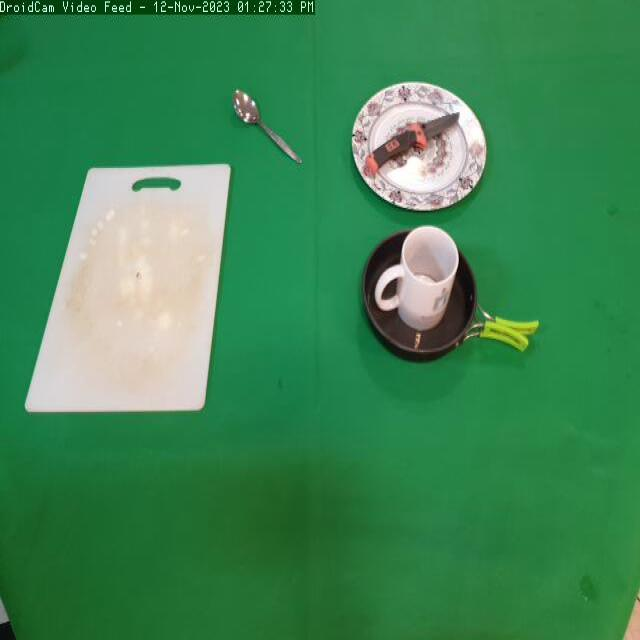cup: (371, 223, 464, 346)
cutting board: (27, 150, 246, 427)
knife: (362, 108, 461, 176)
pan: (361, 227, 545, 387)
plate: (348, 78, 493, 220)
spoon: (231, 82, 307, 171)
